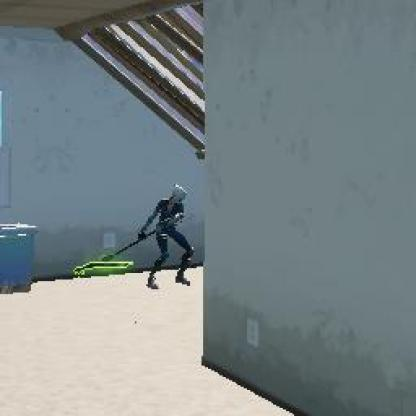dumpster: (138, 184, 197, 290)
